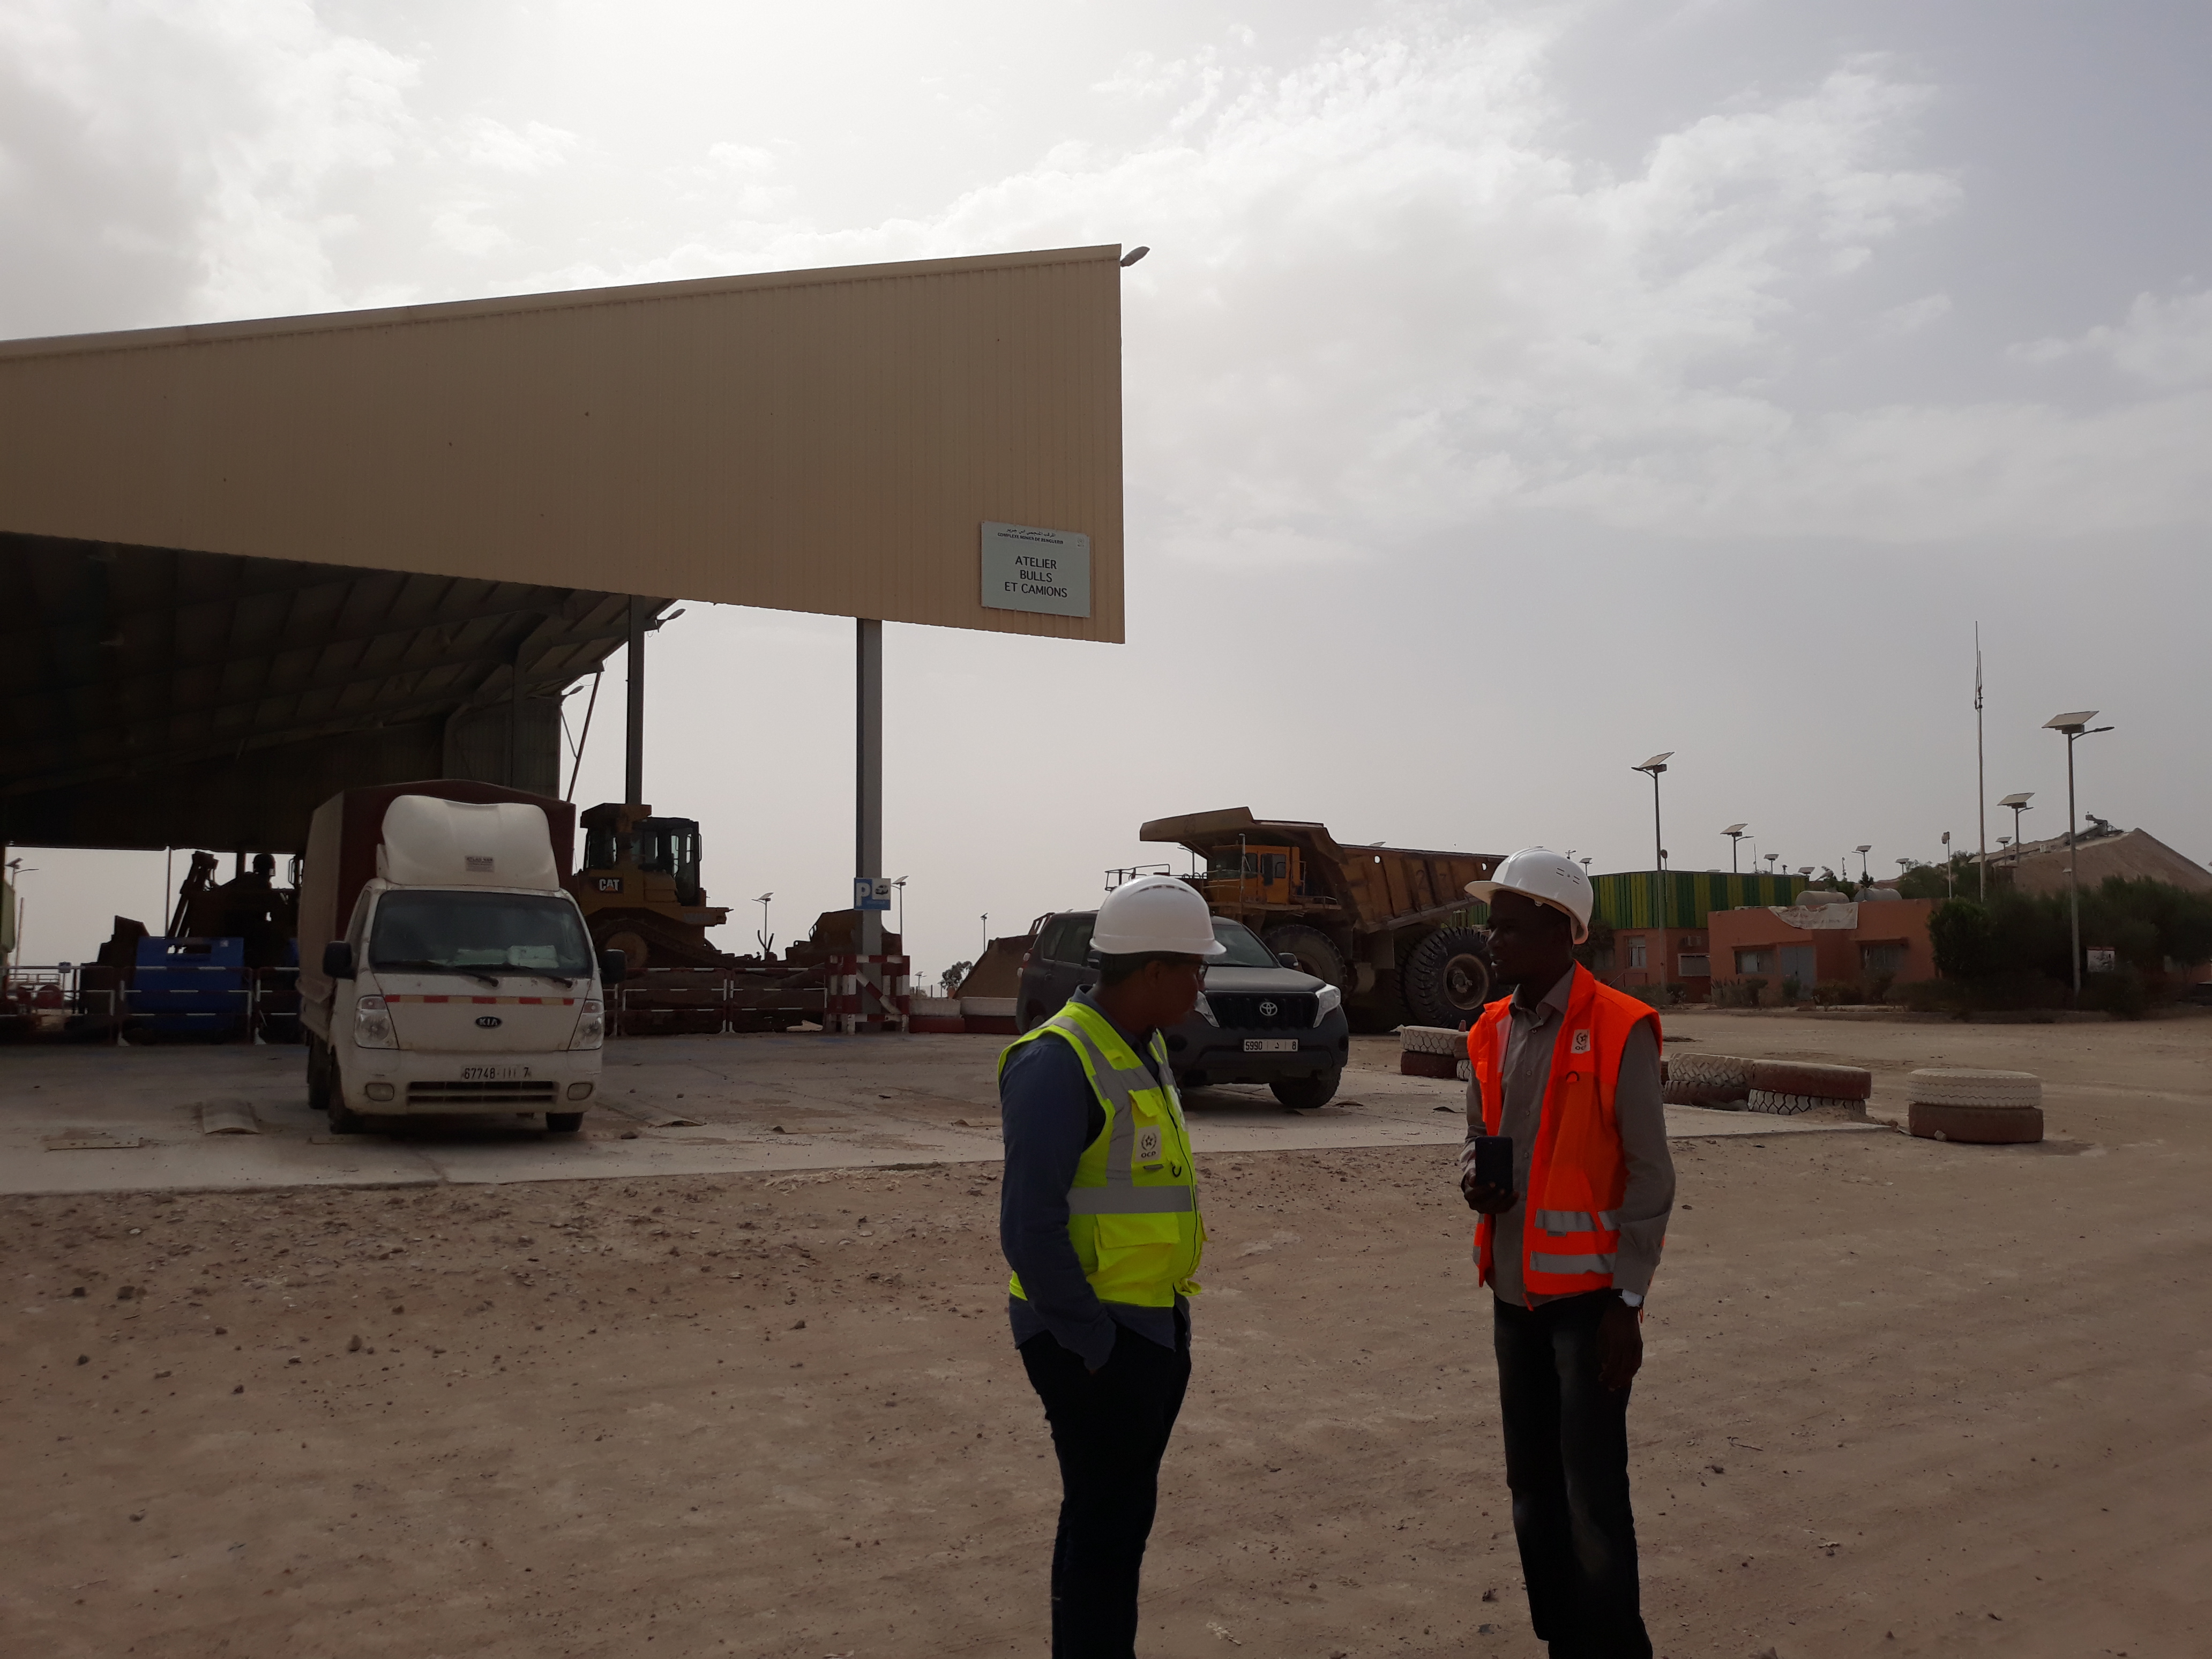camion: (1087, 797, 1552, 1072)
car: (1006, 894, 1377, 1131)
person: (1448, 835, 1714, 1658), (991, 871, 1253, 1659)
